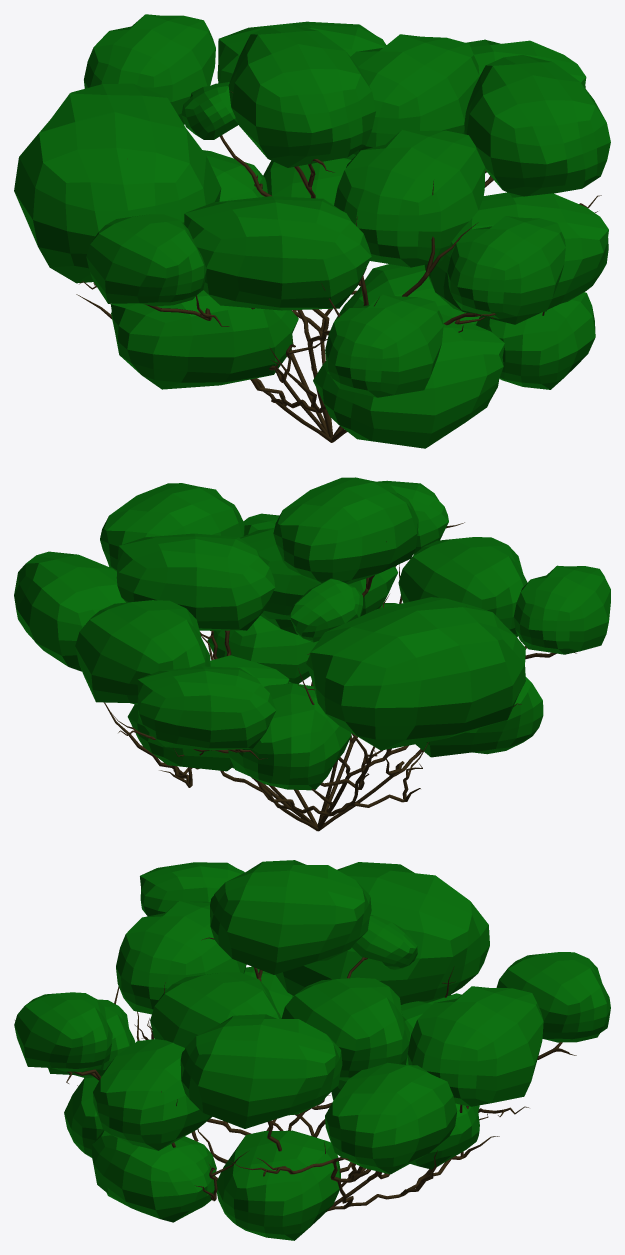
The model's file is Bush.fbx.
3 renders of one model, top to bottom at view 1: azimuth 30°, elevation 25°; view 2: azimuth 150°, elevation 25°; view 3: azimuth 270°, elevation 25°, orthographic. The views are drawn at different scales.
Parts seen in each view (by area): view 1: Leaves, Bush; view 2: Leaves, Bush; view 3: Leaves, Bush.
Part boxes in pixels (<box>): Leaves: <box>14,14,610,448</box>; Bush: <box>76,91,601,442</box>; Leaves: <box>14,477,610,790</box>; Bush: <box>103,522,576,831</box>; Leaves: <box>14,860,610,1240</box>; Bush: <box>15,937,576,1211</box>.
Size of the model in its own units: 1148 by 766 by 1182.
